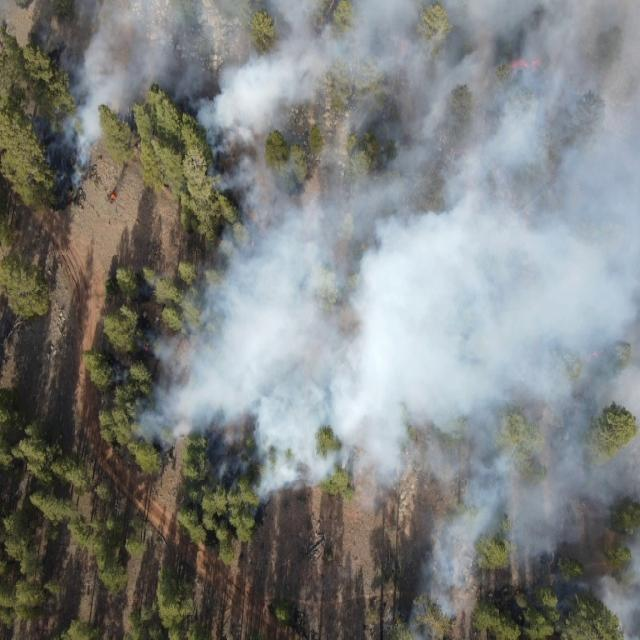fire: (507, 56, 541, 70), (396, 33, 407, 56), (106, 190, 117, 204), (588, 348, 600, 358), (142, 341, 150, 351), (514, 589, 520, 597)
smoke: (210, 190, 640, 508), (38, 0, 640, 189), (97, 256, 211, 462), (421, 507, 640, 604), (399, 605, 458, 640), (603, 605, 640, 640)
